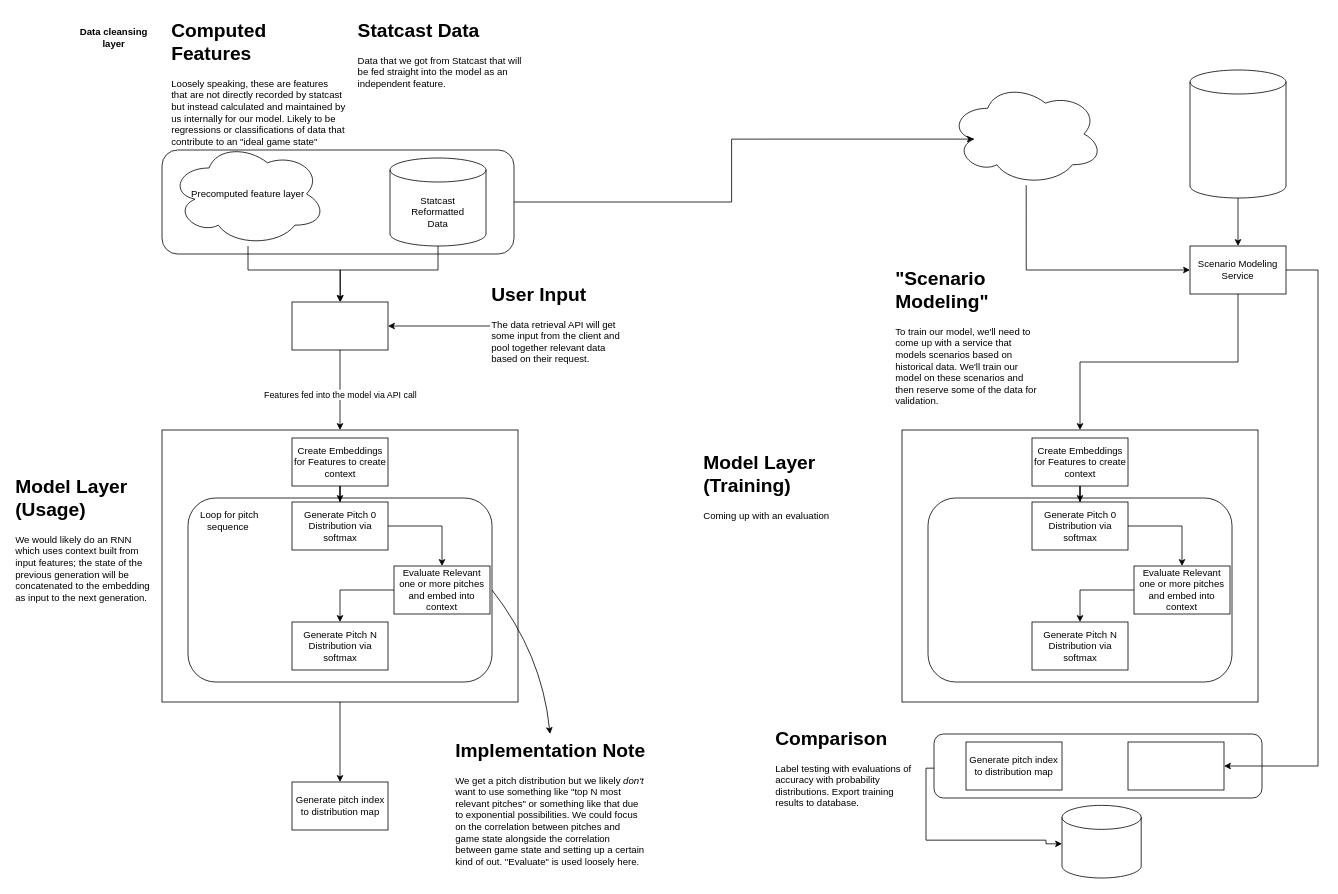
The diagram is 1338 pixels wide and 894 high, and some of its shapes have lost their labels. Here are the shapes that lost their labels. From the top down, the centre of each, then its label:
At point 1025,133: "Features (Mentioned before)".
At point 1237,133: "Statcast Reformatted HISTORICAL data".
At point 339,325: "Data Retrieval API".
At point 1175,765: "Testing Data".
At point 1101,841: "Model Training Parameters".
